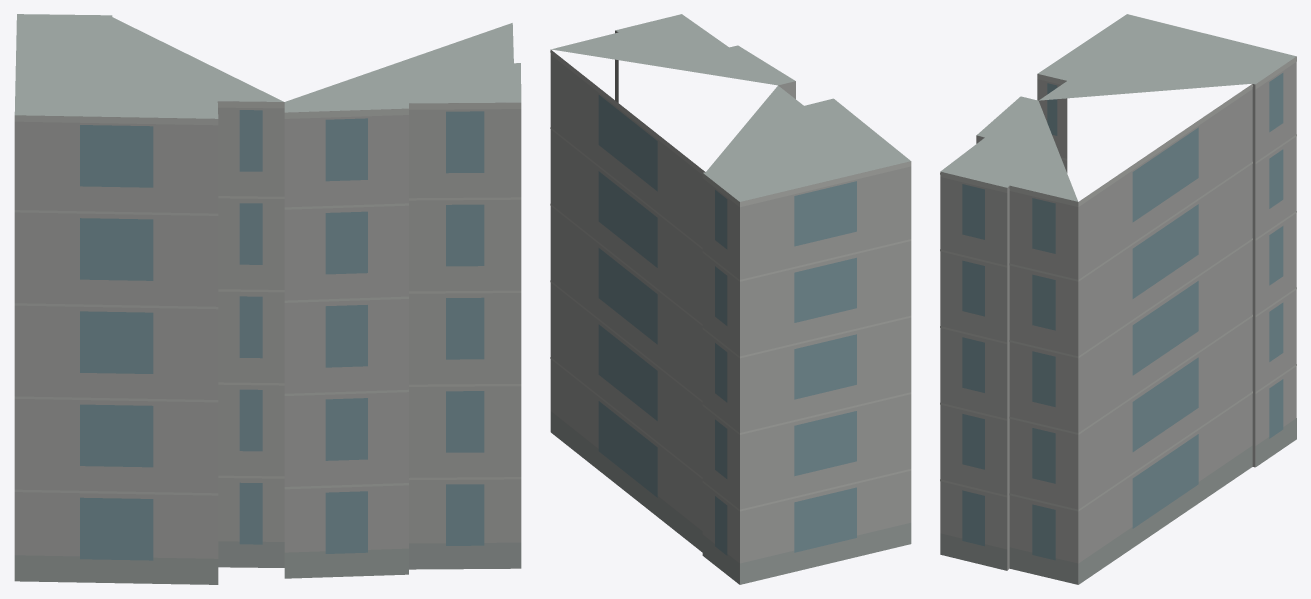
File: survey-upis-33032579.glb
The picture shows the model from 3 angles, left to right: view 1: azimuth 30°, elevation 25°; view 2: azimuth 150°, elevation 25°; view 3: azimuth 270°, elevation 25°; orthographic projection. The views are drawn at different scales.
Parts seen in each view (by area): view 1: survey-upis-33032579.tmp; view 2: survey-upis-33032579.tmp; view 3: survey-upis-33032579.tmp.
Boxes of the visible parts, bbox=[...] form: survey-upis-33032579.tmp: bbox=[14, 14, 521, 584]; survey-upis-33032579.tmp: bbox=[550, 14, 911, 584]; survey-upis-33032579.tmp: bbox=[940, 14, 1296, 584].
Size of the model in its own units: 18.69 by 17.75 by 14.99.
